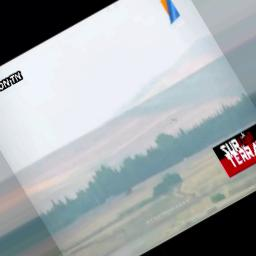Airplane: (167, 116, 180, 125)
